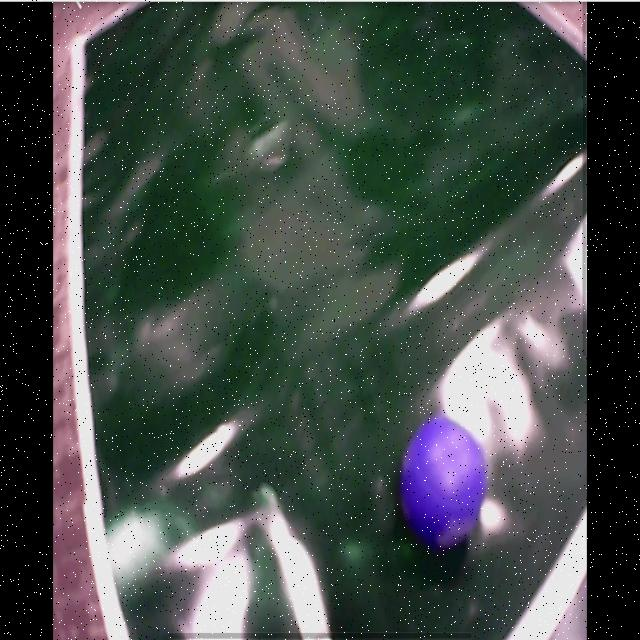ball: (403, 417, 488, 545)
